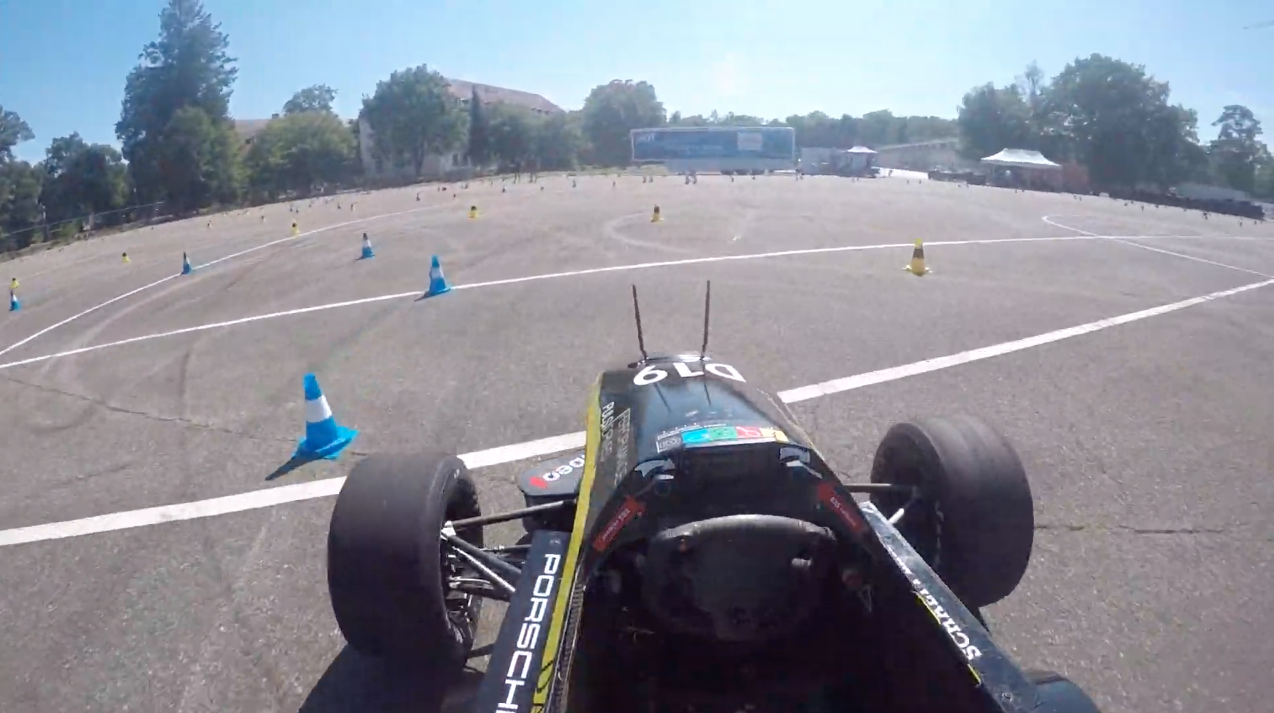lcone: (285, 372, 364, 459), (419, 250, 456, 297), (356, 227, 380, 260)
rcone: (900, 232, 935, 277)
